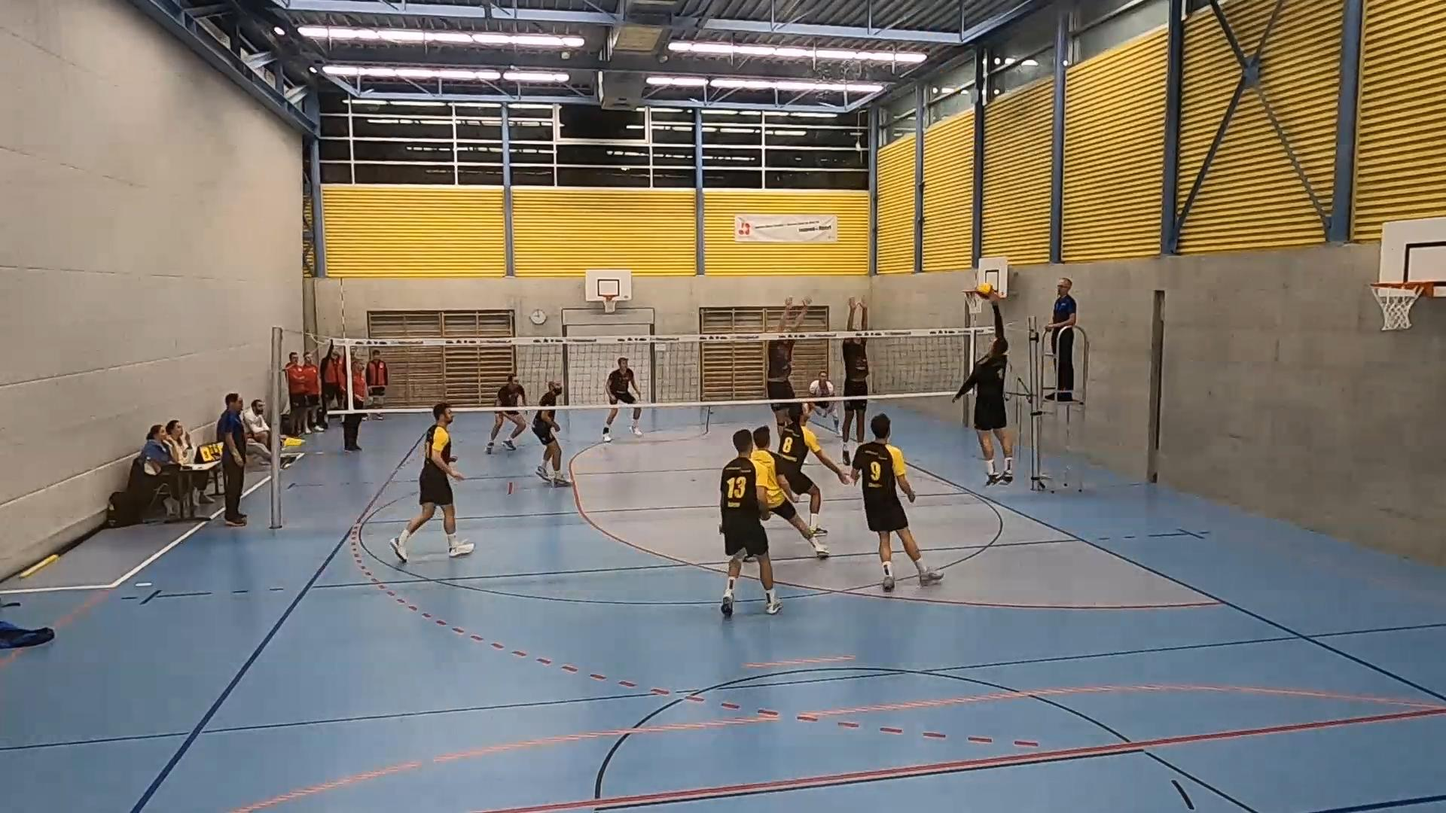Attack: (950, 321, 1016, 489)
Block: (756, 284, 817, 461), (832, 289, 870, 476)
Player: (852, 413, 942, 591), (390, 403, 473, 561), (720, 429, 781, 617), (750, 425, 828, 557), (775, 405, 850, 536), (532, 380, 570, 486), (602, 358, 641, 442), (485, 374, 526, 453), (805, 400, 839, 432)
ball: (972, 283, 999, 296)
